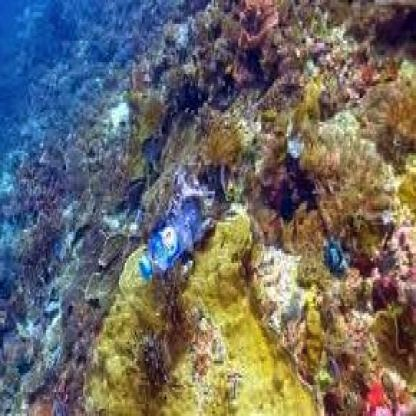pbottle: (125, 189, 209, 282)
